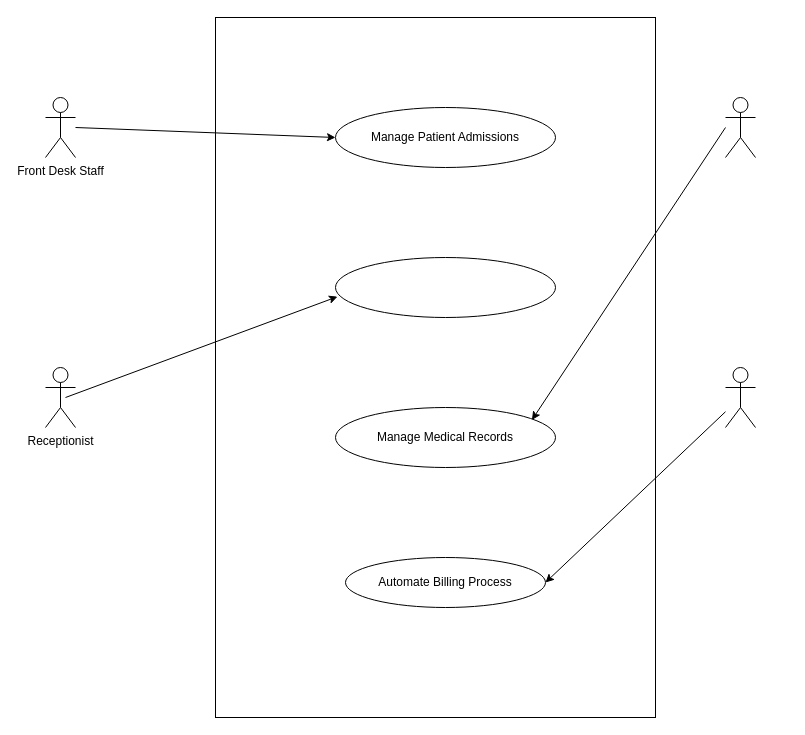
This 805x735 diagram has some shape labels left out. The shapes that lost their labels are listed below. From the top down, each one's centre as x and y in pixels, then its label:
(x=740, y=127): Medical Staff
(x=445, y=287): Schedule Appointments
(x=740, y=397): Biling Department
